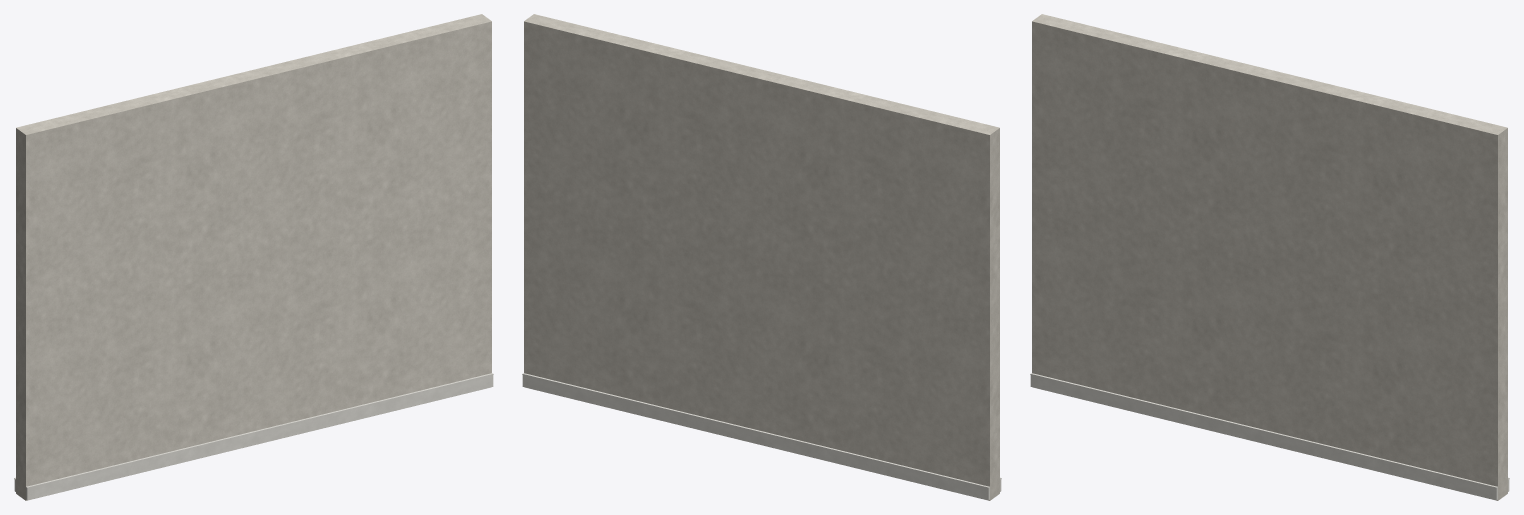
The model's file is PROJECT_Z_Interior_V01_Straight_4m.glb.
3 renders of one model, left to right at view 1: azimuth 30°, elevation 25°; view 2: azimuth 150°, elevation 25°; view 3: azimuth 330°, elevation 25°, orthographic.
Parts seen in each view (by area): view 1: V01_Straight_4m__Render_Plastershell_Continuous, V01_Straight_4m__Render_Skirting_Front, V01_Straight_4m__Render_Skirting_TopLip_Front; view 2: V01_Straight_4m__Render_Plastershell_Continuous, V01_Straight_4m__Render_Skirting_Back, V01_Straight_4m__Render_Skirting_TopLip_Back; view 3: V01_Straight_4m__Render_Plastershell_Continuous, V01_Straight_4m__Render_Skirting_Front, V01_Straight_4m__Render_Skirting_TopLip_Front.
Part boxes in pixels (left/top/right/bottom): V01_Straight_4m__Render_Plastershell_Continuous: left=16, top=14, right=491, bottom=500; V01_Straight_4m__Render_Skirting_Front: left=26, top=373, right=493, bottom=500; V01_Straight_4m__Render_Skirting_TopLip_Front: left=27, top=373, right=493, bottom=488; V01_Straight_4m__Render_Plastershell_Continuous: left=524, top=14, right=999, bottom=500; V01_Straight_4m__Render_Skirting_Back: left=522, top=373, right=989, bottom=500; V01_Straight_4m__Render_Skirting_TopLip_Back: left=522, top=373, right=988, bottom=488; V01_Straight_4m__Render_Plastershell_Continuous: left=1032, top=14, right=1507, bottom=500; V01_Straight_4m__Render_Skirting_Front: left=1030, top=373, right=1497, bottom=500; V01_Straight_4m__Render_Skirting_TopLip_Front: left=1030, top=373, right=1496, bottom=488.
Size of the model in its own units: 4 by 3 by 0.194.
Materials: 2 (2 with a texture image).
